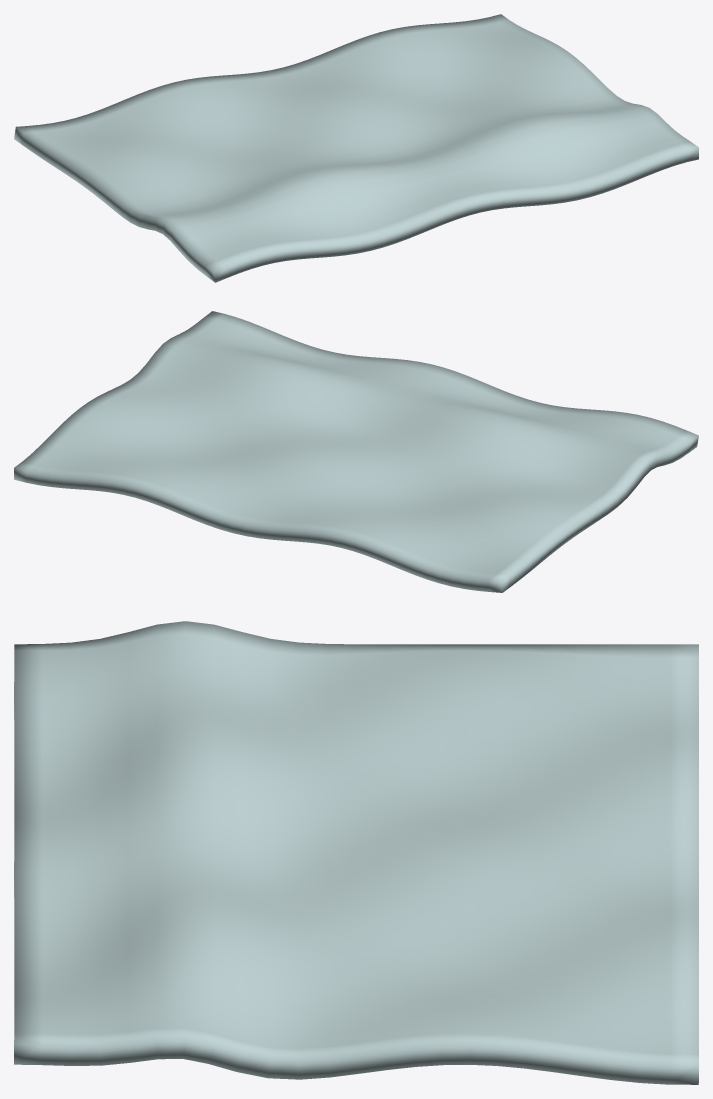
The model's file is towel.glb.
The picture shows the model from 3 angles, top to bottom: view 1: azimuth 30°, elevation 25°; view 2: azimuth 150°, elevation 25°; view 3: azimuth 270°, elevation 25°; orthographic projection. The views are drawn at different scales.
Visible parts, largest first — view 1: Folded drying towel; view 2: Folded drying towel; view 3: Folded drying towel.
Boxes of the visible parts, <box> form: Folded drying towel: <box>14,14,698,282</box>; Folded drying towel: <box>14,311,698,592</box>; Folded drying towel: <box>14,621,698,1084</box>.
Bounding box in the file's own units: 0.3414 × 0.0239 × 0.2402.
